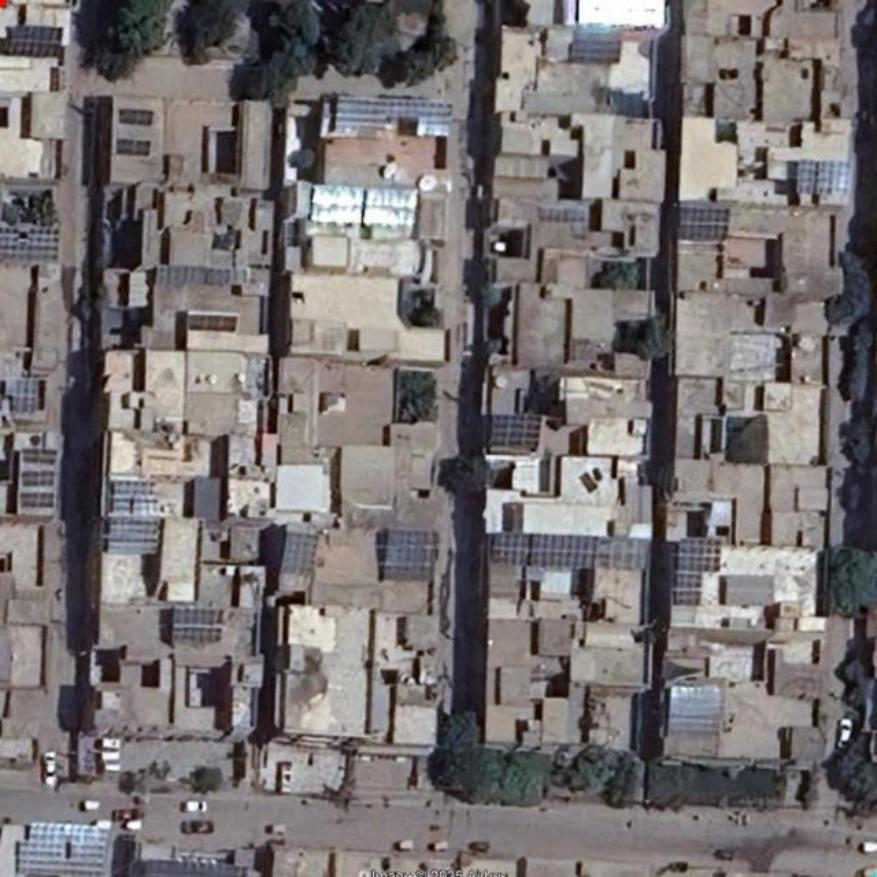Solarpanel: (19, 821, 105, 876), (337, 95, 452, 136), (311, 185, 419, 227), (108, 478, 160, 553), (493, 535, 595, 570), (674, 540, 723, 605), (384, 531, 435, 583), (491, 412, 542, 450), (7, 24, 60, 57), (796, 160, 850, 192), (171, 609, 225, 641), (680, 208, 728, 241), (5, 379, 39, 412), (190, 313, 237, 329), (115, 139, 151, 155), (119, 109, 152, 125), (23, 449, 55, 464), (23, 471, 53, 484), (23, 493, 52, 506)
